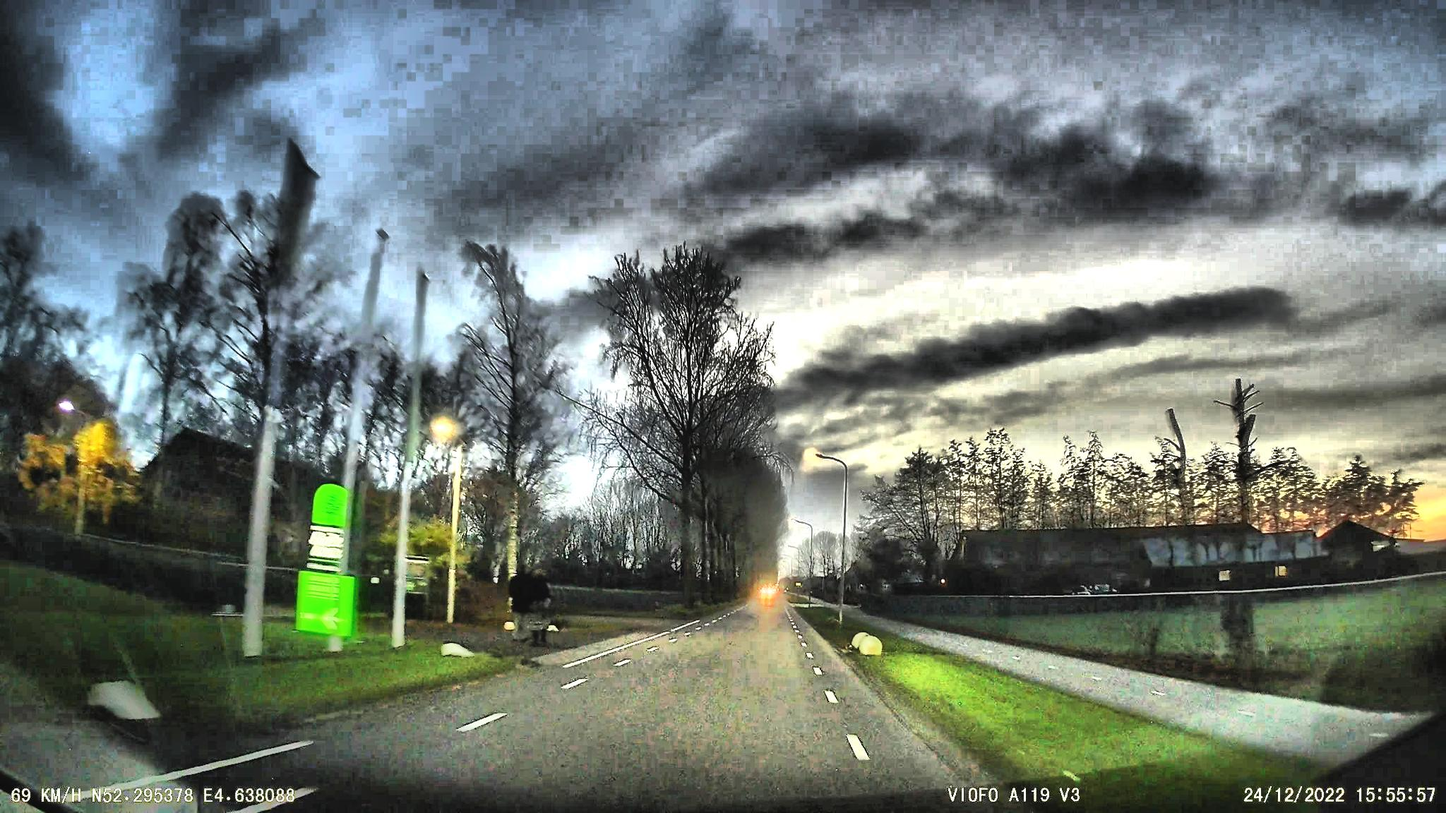Roads: (269, 605, 963, 813)
